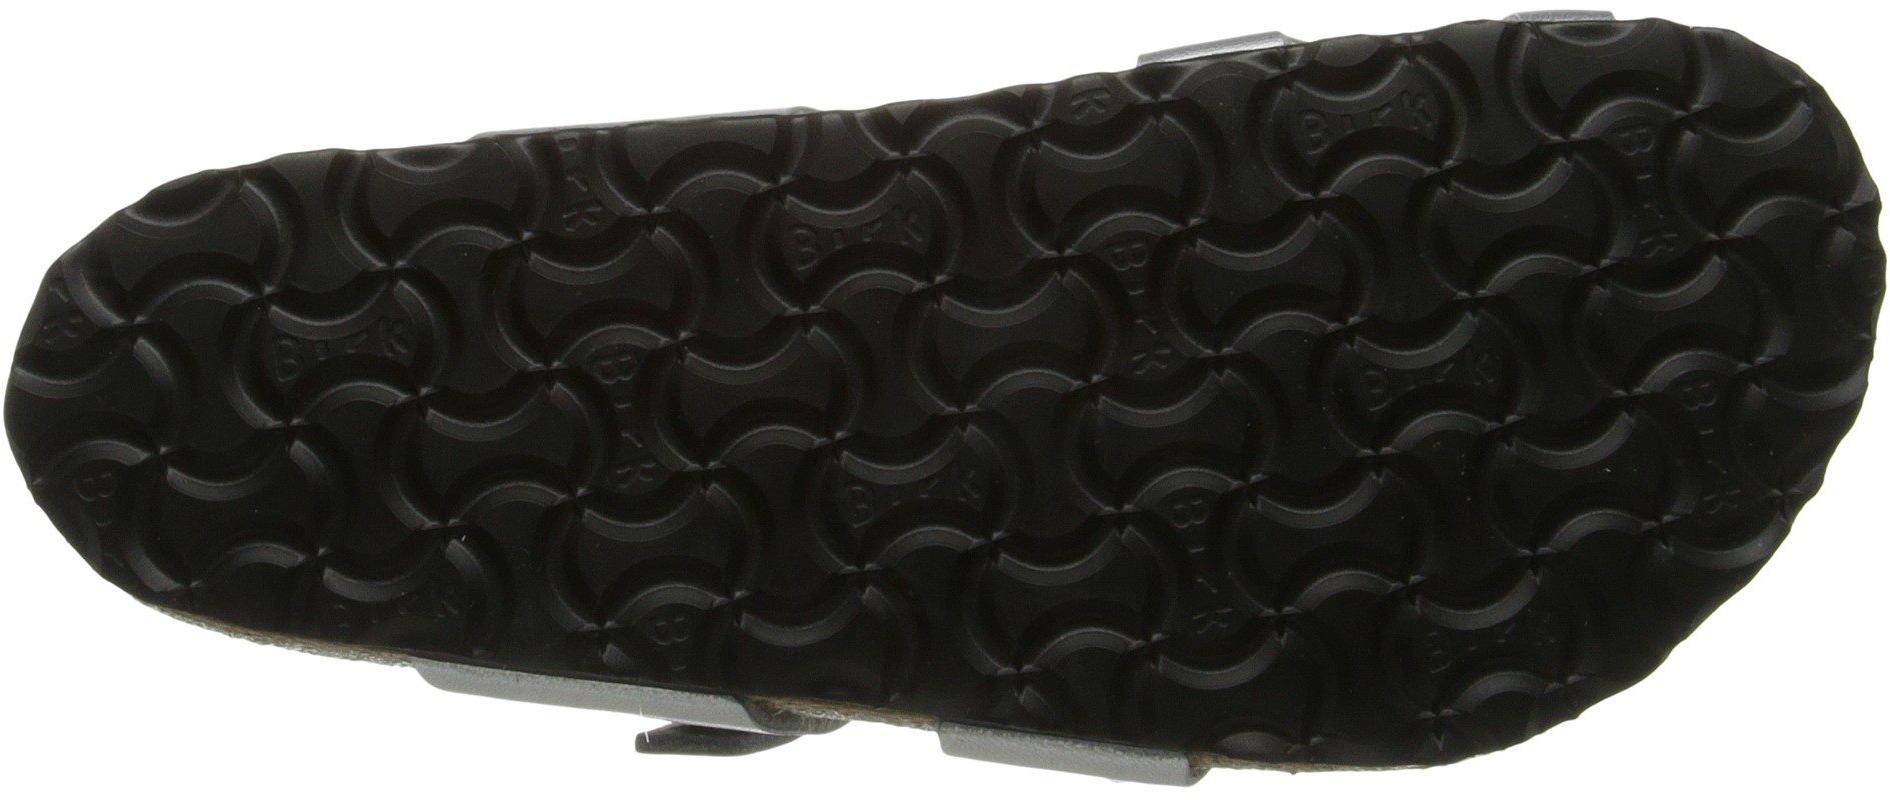bowtie: (281, 200, 742, 633), (904, 141, 1319, 522), (1256, 61, 1597, 416), (934, 422, 1254, 708), (655, 129, 964, 413), (1282, 427, 1584, 711), (354, 184, 644, 480), (967, 118, 1243, 406), (1601, 118, 1863, 386), (655, 423, 899, 686), (80, 269, 310, 512), (429, 484, 610, 661), (1604, 411, 1753, 576)
text: (281, 200, 742, 633), (904, 141, 1319, 522)
